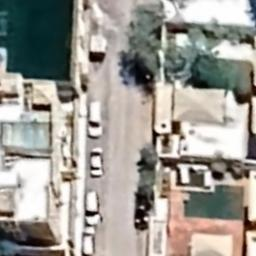SUV: (87, 98, 104, 140), (85, 190, 102, 229)
sedan: (87, 144, 106, 180), (80, 225, 96, 256)
